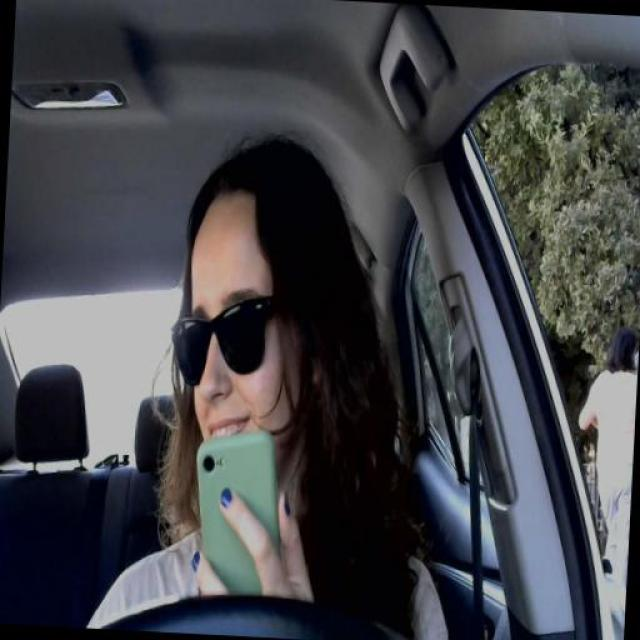phone: (192, 431, 285, 601)
